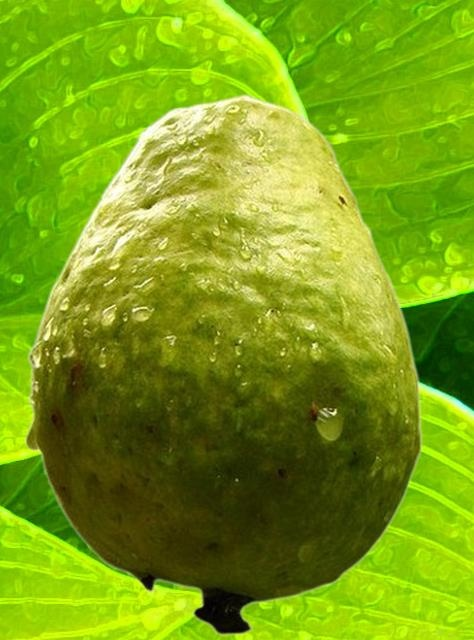guava: (24, 94, 422, 636)
